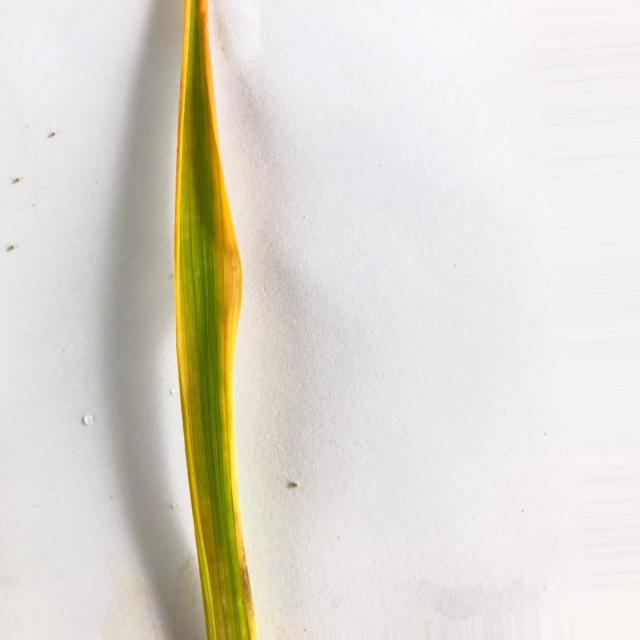Rice Tungro: (175, 0, 257, 640)
